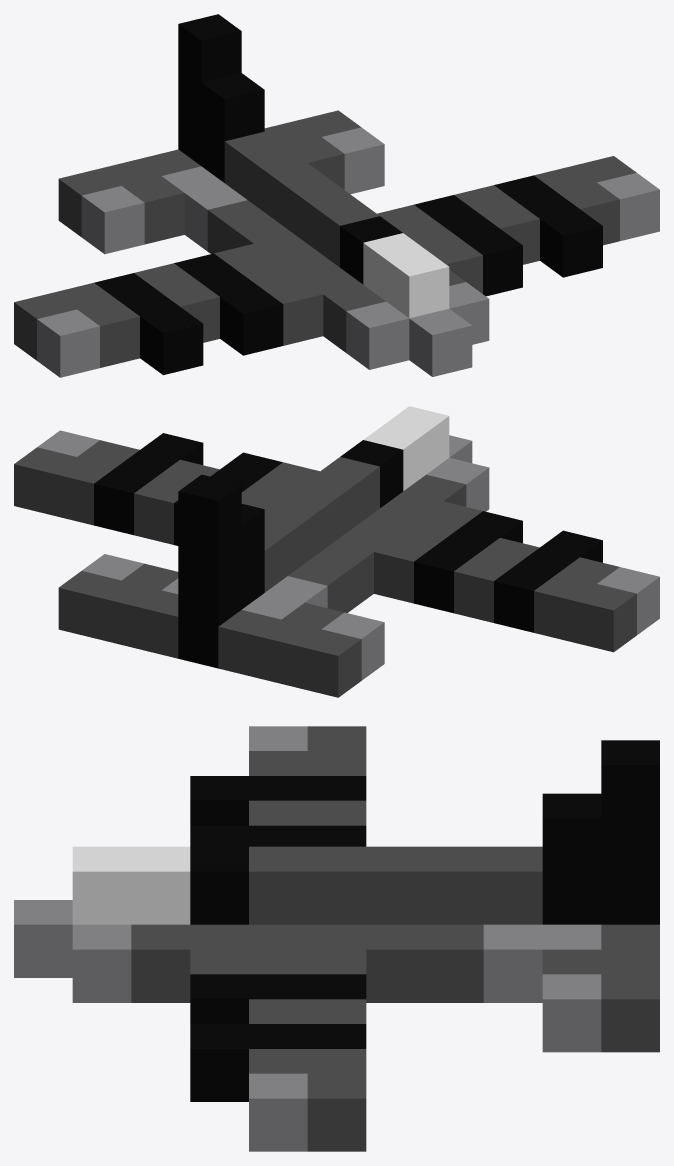
Rendered from bomber.glb.
3 renders of one model, top to bottom at view 1: azimuth 30°, elevation 25°; view 2: azimuth 150°, elevation 25°; view 3: azimuth 270°, elevation 25°, orthographic. The views are drawn at different scales.
Visible parts, largest first — view 1: bomber; view 2: bomber; view 3: bomber.
Part boxes in pixels (left/top/right/bottom): bomber: left=14, top=14, right=659, bottom=377; bomber: left=14, top=406, right=659, bottom=697; bomber: left=14, top=726, right=659, bottom=1151.
Size of the model in its own units: 0.6341 by 0.1691 by 0.465.
Materials: 1 (1 with a texture image).
